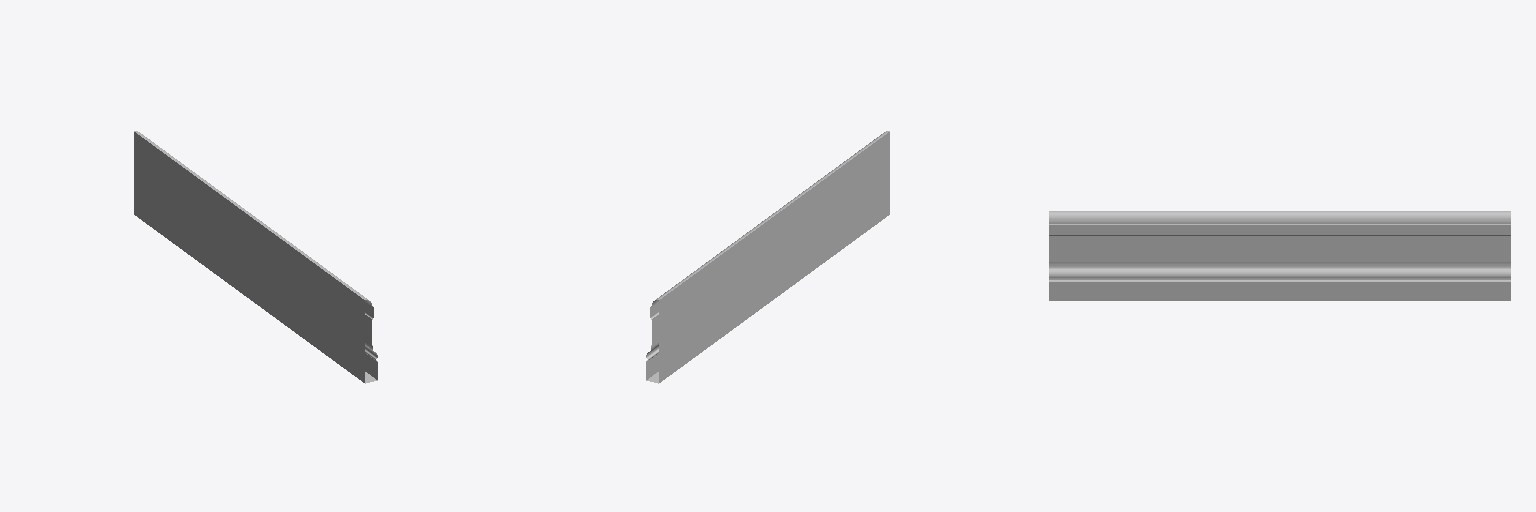
File: Solana_Baseboard.obj
3 renders of one model, left to right at view 1: azimuth 30°, elevation 25°; view 2: azimuth 150°, elevation 25°; view 3: azimuth 270°, elevation 25°, orthographic.
Visible parts, largest first — view 1: Solana_Baseboard; view 2: Solana_Baseboard; view 3: Solana_Baseboard.
Boxes of the visible parts, box(x1,y1,x2,y2) form: Solana_Baseboard: box(134, 131, 377, 383); Solana_Baseboard: box(646, 131, 889, 383); Solana_Baseboard: box(1049, 211, 1510, 300).
Size of the model in its own units: 1.61 by 9.95 by 49.98.